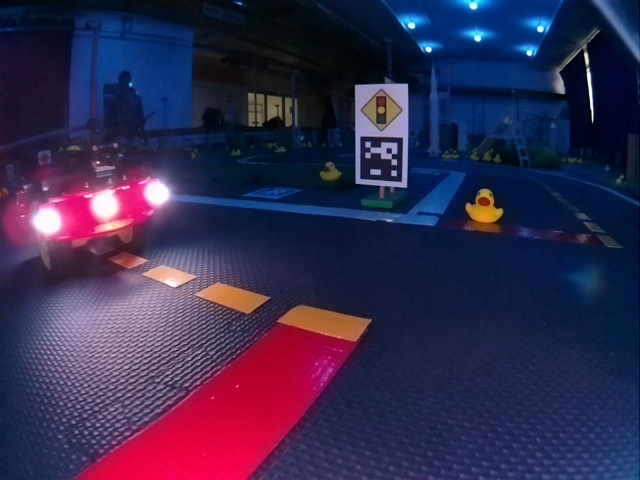Duckie: (465, 190, 504, 224), (321, 162, 340, 180), (483, 153, 492, 162), (493, 154, 502, 163), (471, 152, 479, 161), (443, 151, 451, 159), (452, 151, 460, 159)
Duckiebot: (10, 145, 171, 273)
QR code: (357, 140, 408, 186), (244, 185, 302, 200)
Signal sign: (361, 88, 404, 133)
